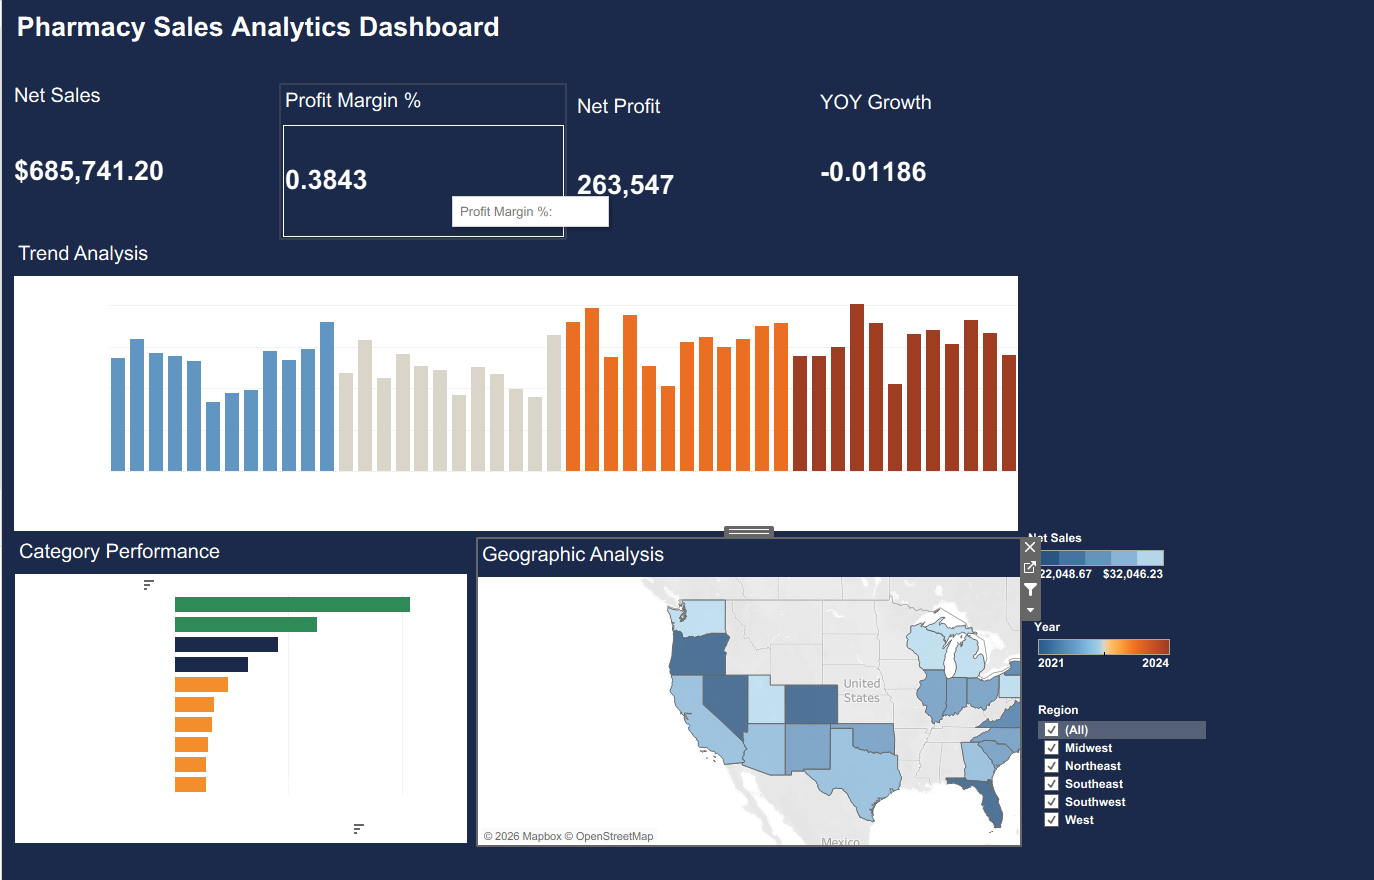

What the dashboard file says about the page in this screenshot:
{"tool":"tableau","page":{"name":"Dashboard 1","canvas":[1400,900],"ordinal":0},"visuals":[{"type":"title","box":[8,8,1384,39]},{"type":"worksheet","title":"Net Sales","mark":"Automatic","box":[8,80,300,145]},{"type":"worksheet","title":"Profit Margin %","mark":"Automatic","box":[279,85,284,153]},{"type":"worksheet","title":"YOY Growth","mark":"Automatic","box":[814,87,228,133]},{"type":"worksheet","title":"Net Profit","mark":"Automatic","box":[571,91,278,152]},{"type":"worksheet","title":"Trend Analysis","mark":"Automatic","rows":["Net_Sales"],"cols":["Calculation_2723255418105858"],"box":[12,238,1004,293]},{"type":"legend","title":"Geographic Analysis","param":"[federated.1vt7zjx1x4sv7x15tzmkd0g3td6d].[sum:Net_Sales:qk]","box":[1026,531,140,67]},{"type":"worksheet","title":"Category Performance","mark":"Automatic","rows":["Product_Category"],"cols":["Net_Sales"],"box":[13,536,452,341]},{"type":"worksheet","title":"Geographic Analysis","mark":"Automatic","box":[476,539,542,306]},{"type":"legend","title":"Trend Analysis","param":"[federated.1vt7zjx1x4sv7x15tzmkd0g3td6d].[none:Year:qk]","box":[1032,620,140,67]},{"type":"filter","title":"Geographic Analysis","param":"[federated.1vt7zjx1x4sv7x15tzmkd0g3td6d].[none:Region:nk]","box":[1036,703,168,137]}]}

Visuals, with their boxes in screenshot pixels (x1, y1, x2, y2), scaled from the page's 1400x900 canvas onto the 1374x880 screenshot:
title: box(8, 8, 1366, 46)
"Net Sales" worksheet: box(8, 78, 302, 220)
"Profit Margin %" worksheet: box(274, 83, 553, 233)
"YOY Growth" worksheet: box(799, 85, 1023, 215)
"Net Profit" worksheet: box(560, 89, 833, 238)
"Trend Analysis" worksheet: box(12, 233, 997, 519)
"Geographic Analysis" legend: box(1007, 519, 1144, 585)
"Category Performance" worksheet: box(13, 524, 456, 858)
"Geographic Analysis" worksheet: box(467, 527, 999, 826)
"Trend Analysis" legend: box(1013, 606, 1150, 672)
"Geographic Analysis" filter: box(1017, 687, 1182, 821)
